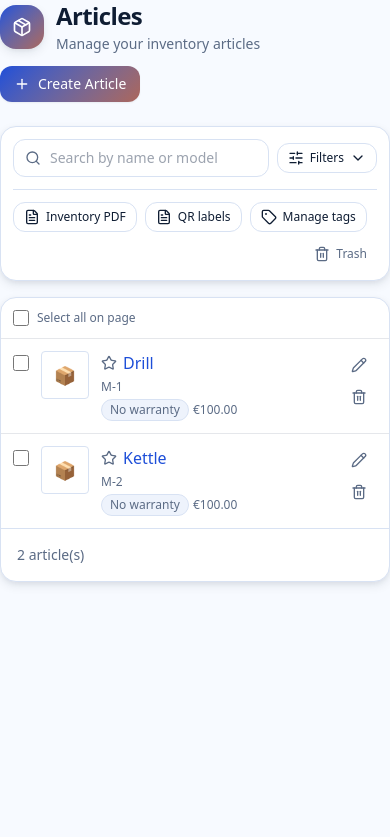
Test case: <ArticlesList /> › opens the sheet in edit mode for a row
This screenshot has width=390, height=837.
Click the button named "Edit" in the row of "Drill": (359, 365) [341,351,377,379]
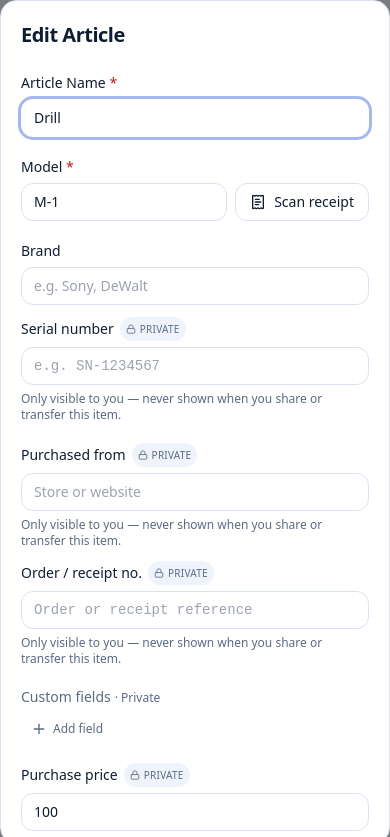
Check: the field showing "Drill" is shown, box [21,99,369,137]
